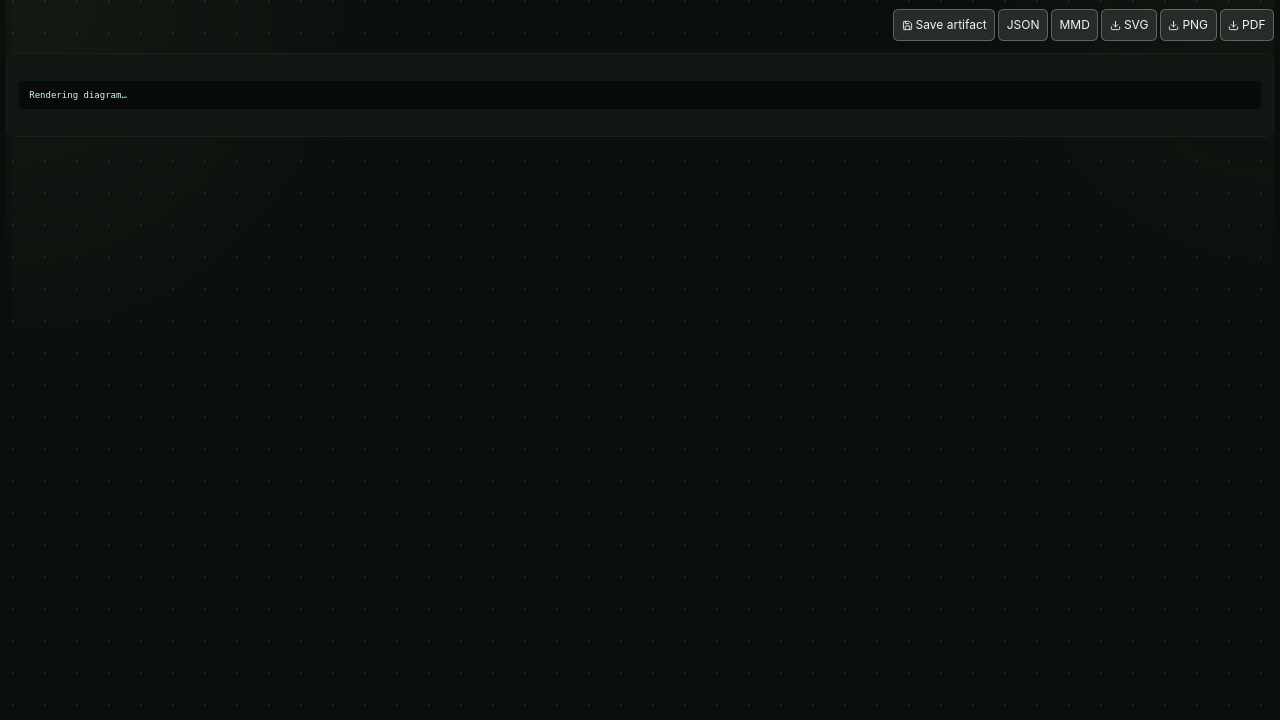
Test: DeepSpace markdown streaming › offers a rounded-square save action for Mermaid diagram artifacts
Step 1. Click the button with aria-label "Save diagram artifact" → (944,25), box [893,9,995,41]
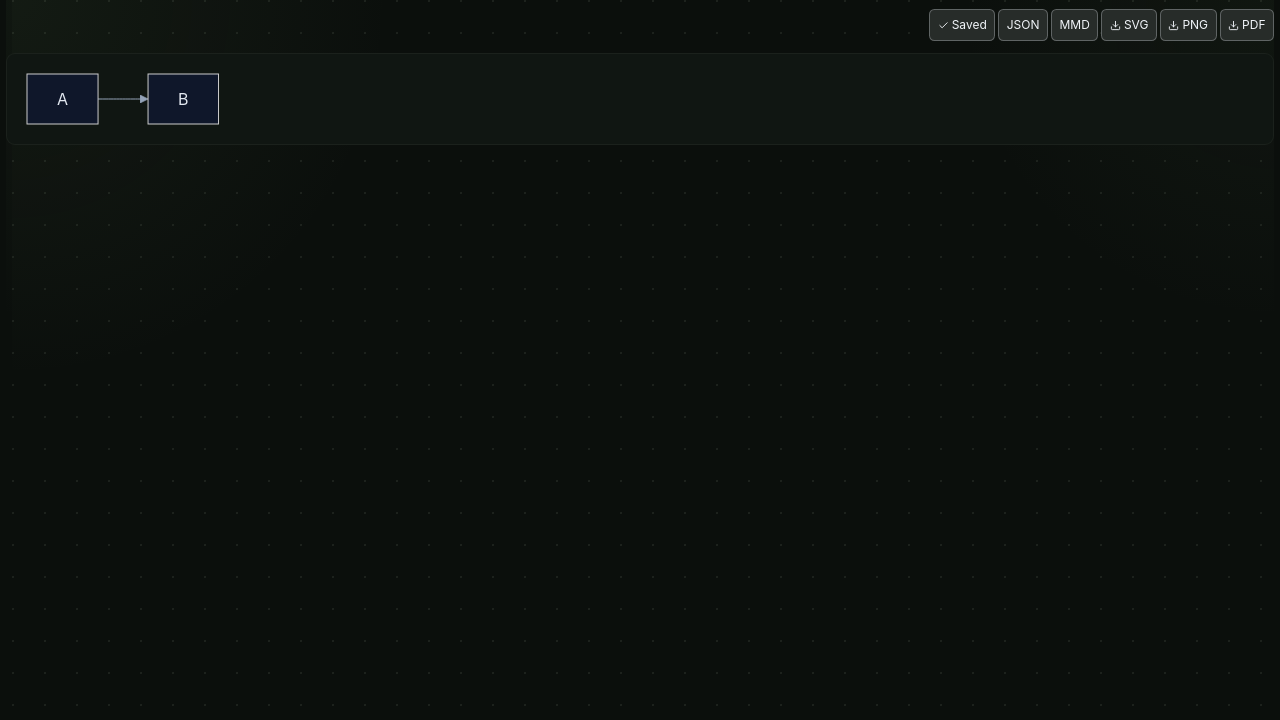
Expected: the button with aria-label "Save diagram artifact" reads "Saved", [929,9,995,41]
